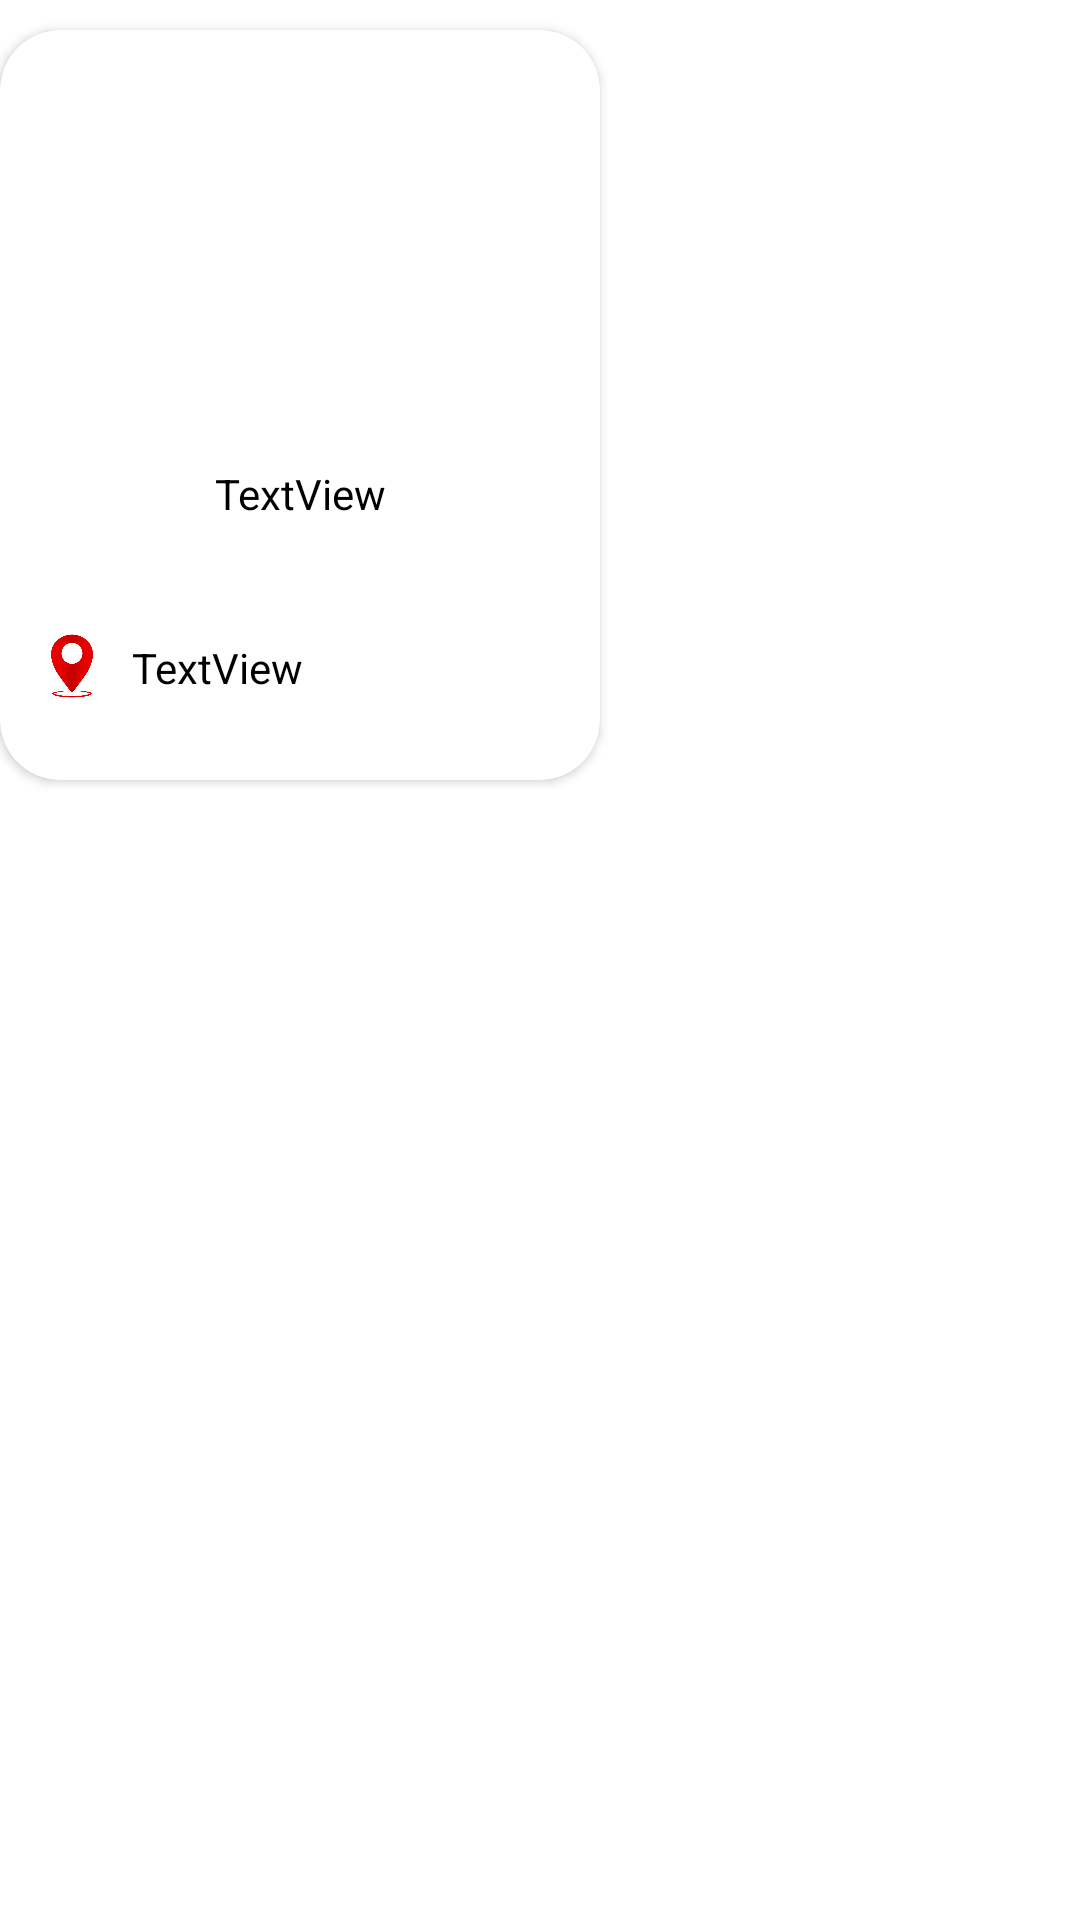

Icons on this 1080x1920 Android screen, each with the point to tap as (x,y):
konum: (72,666)
